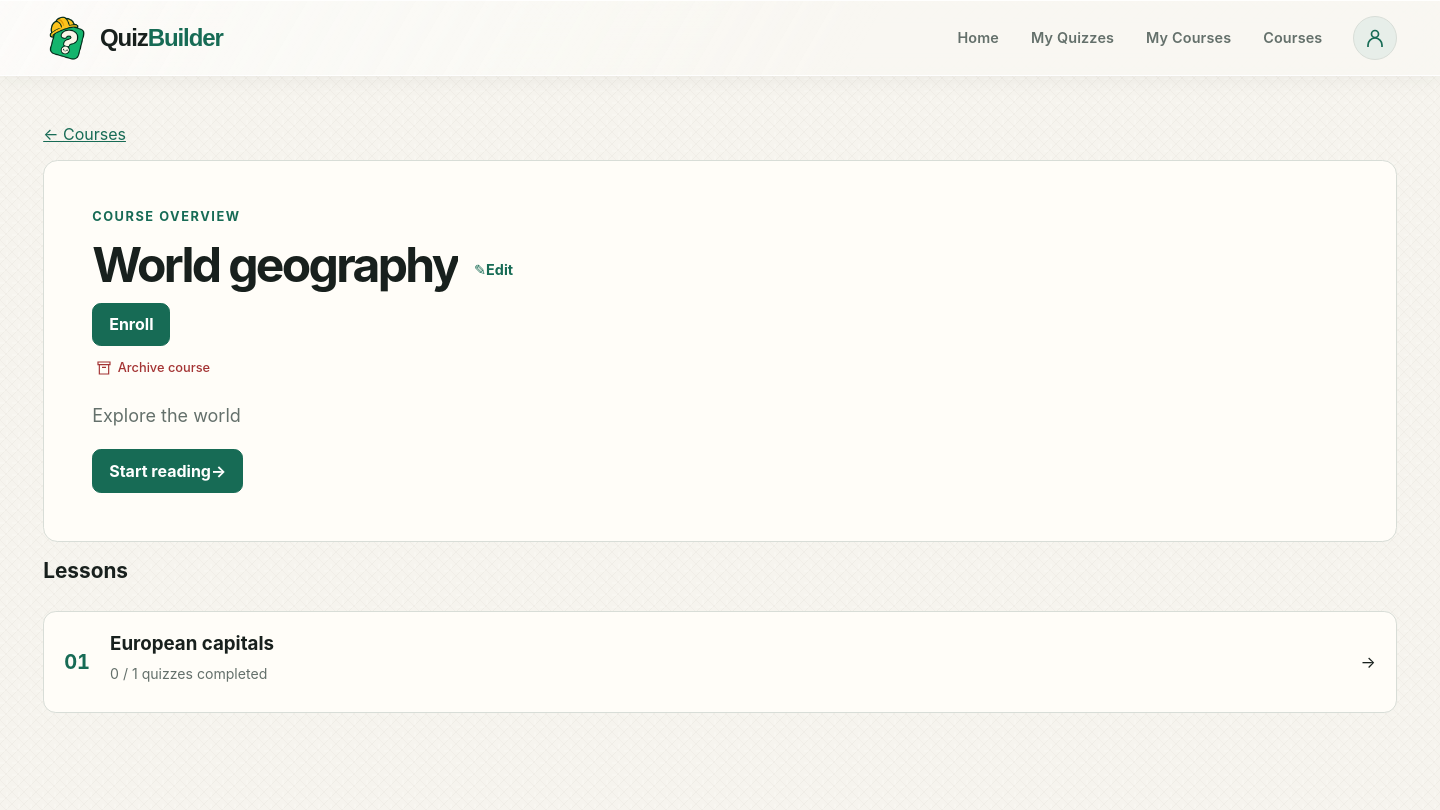
Test: only offers lesson import while the admin is in edit mode
Expected: the heading "World geography" is shown, x1=92 y1=237 x2=458 y2=292
Expected: the link "Import lessons" is not shown
Click the button with aria-label "Edit course".
click(494, 270)  # box x1=470 y1=257 x2=517 y2=282
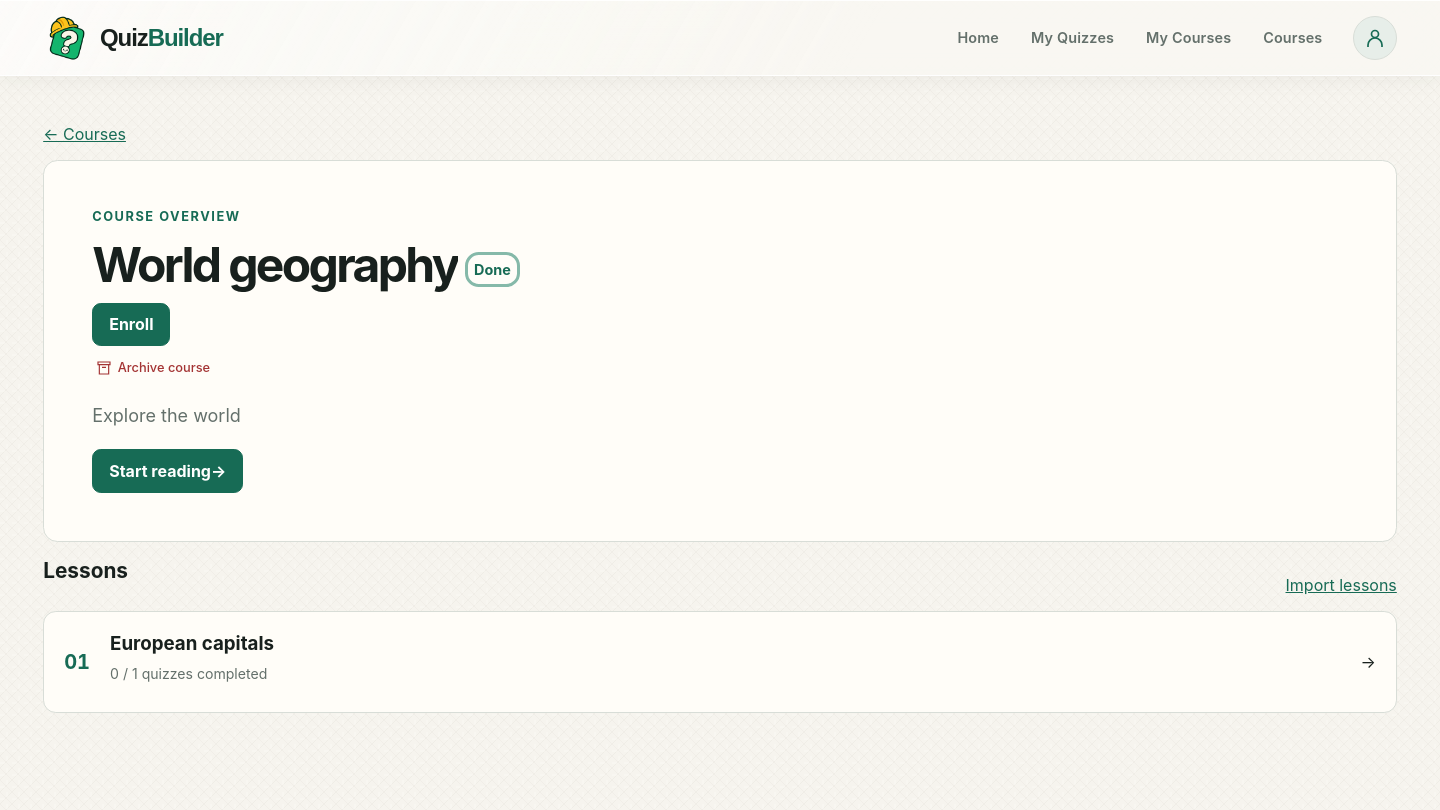
Click the button with aria-label "Done editing course".
click(492, 270)  # box x1=470 y1=257 x2=515 y2=282
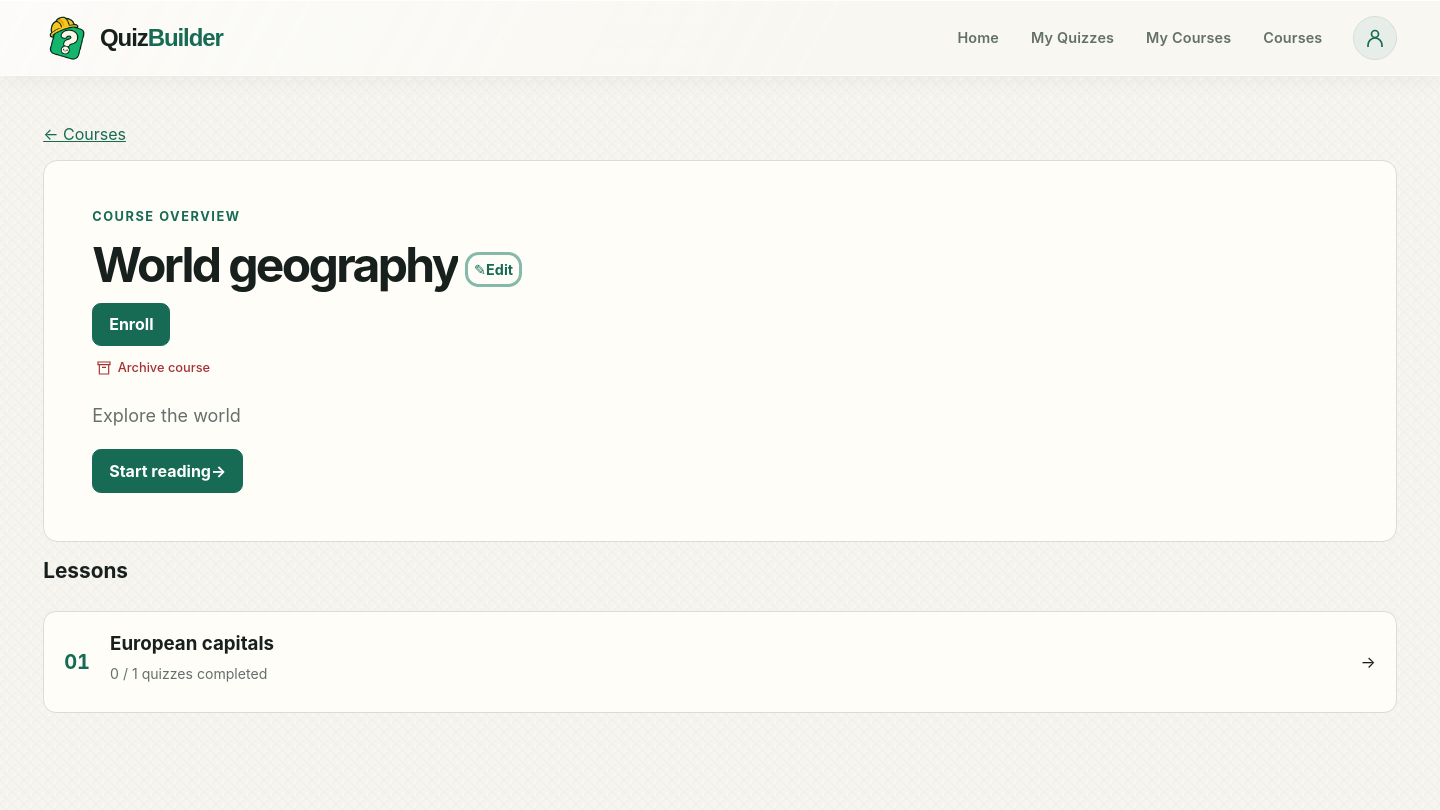
Expected: the link "Import lessons" is gone
